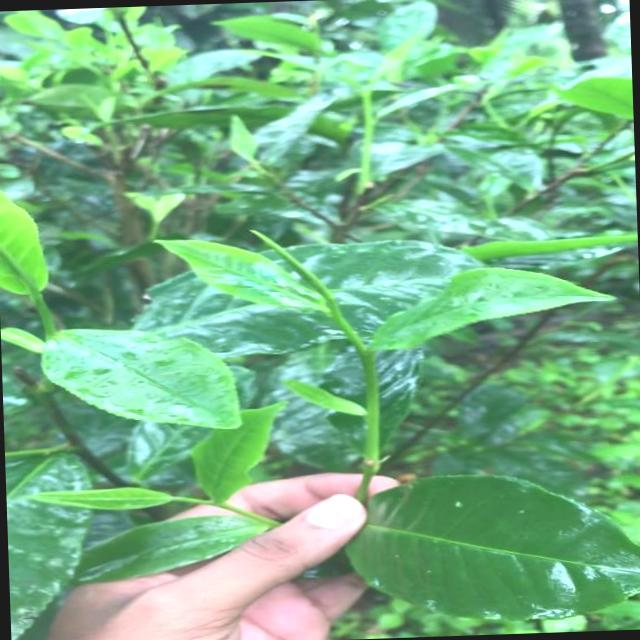Stem: (361, 351, 374, 367)
